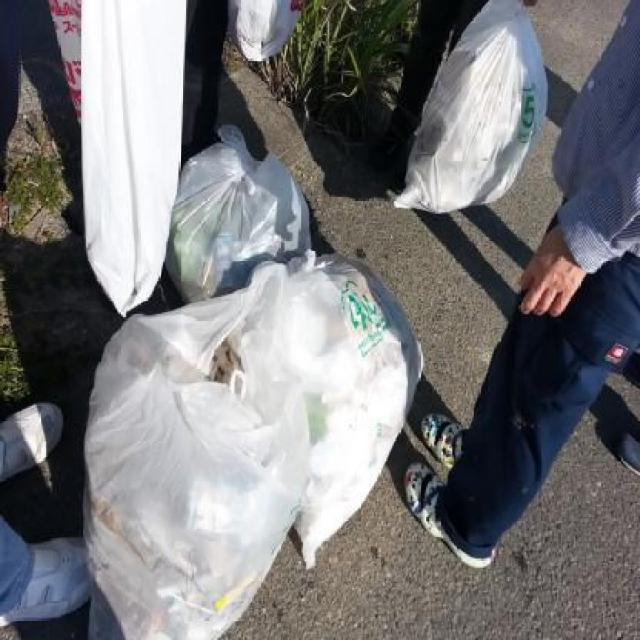plastic bag: (80, 255, 312, 637), (231, 250, 420, 572), (43, 0, 188, 320), (390, 0, 548, 220), (161, 126, 314, 306), (224, 0, 303, 58)
